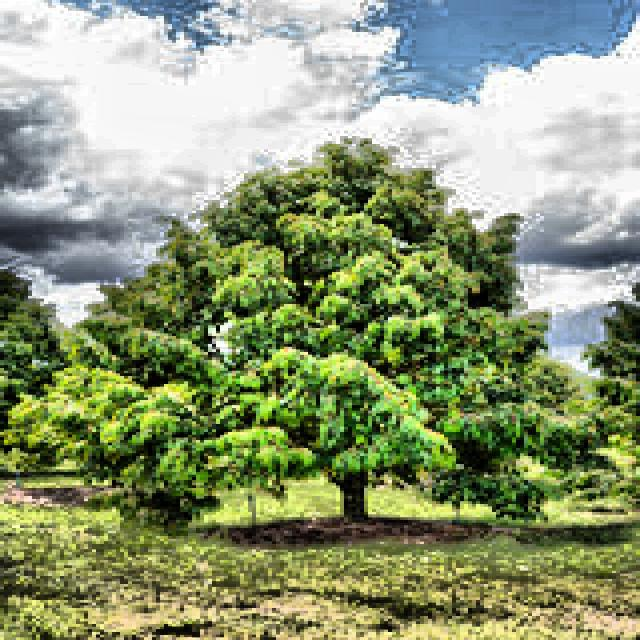arvore: (324, 396, 389, 542)
